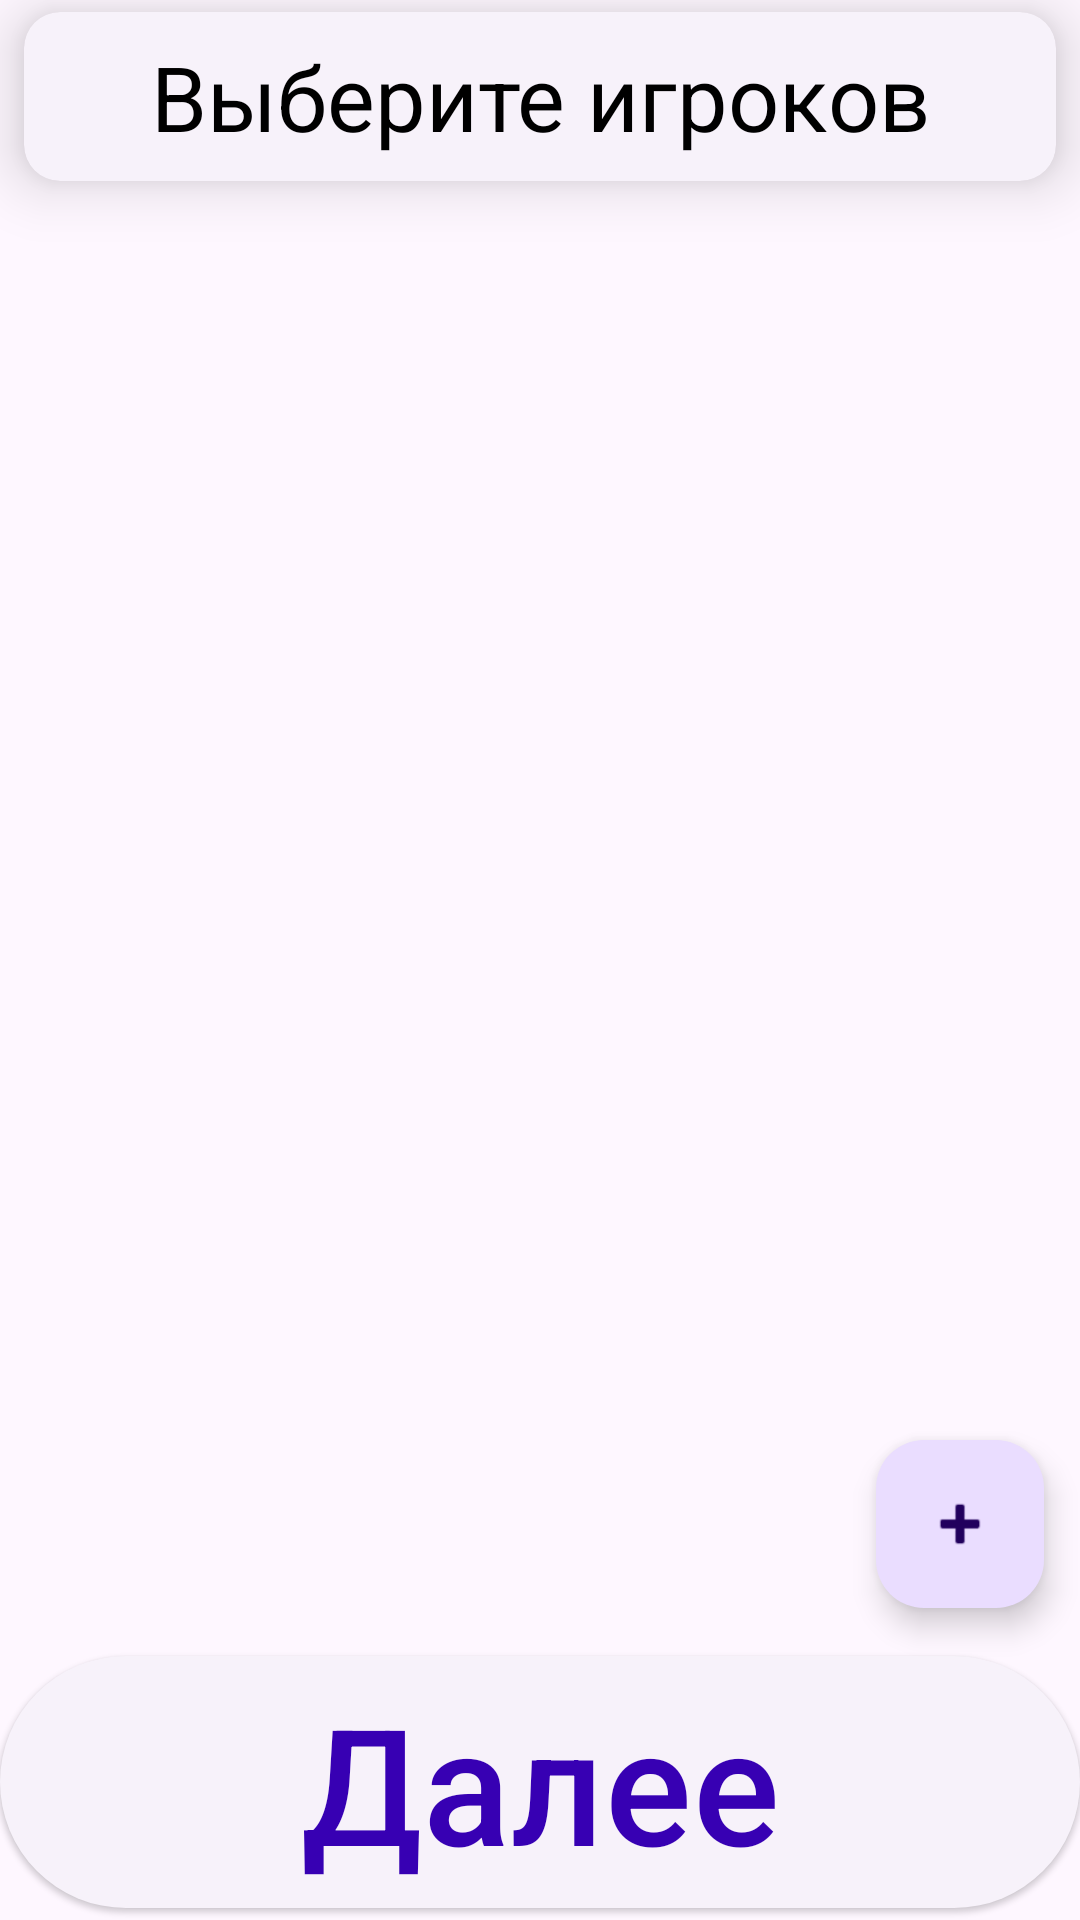

Locate icon controls on the screen. Image size 1080 x 1920, boxes as (x1, y1, x2, y2).
Добавить: (876, 1440, 1044, 1608)
